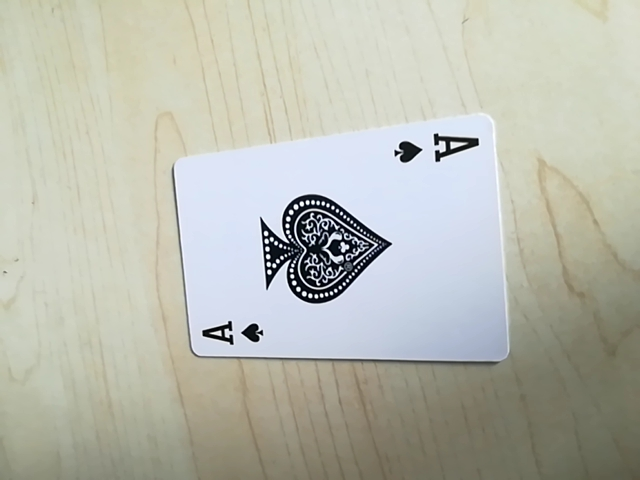ht a: (391, 124, 482, 172), (196, 315, 269, 356)
